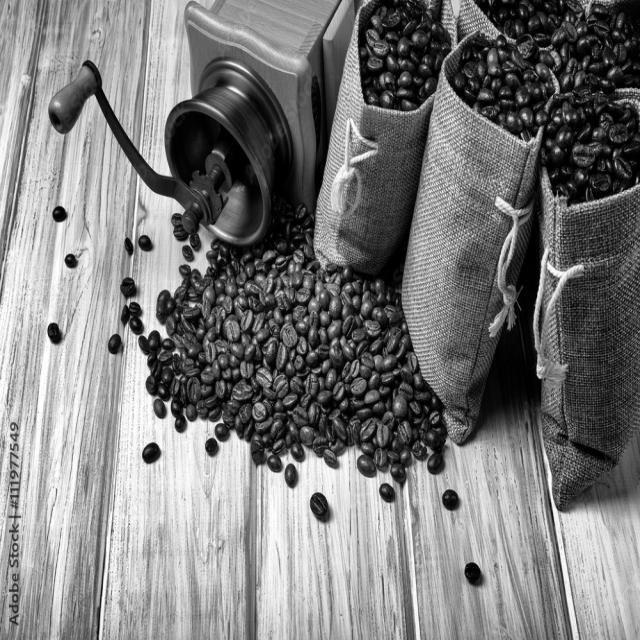sack: (401, 28, 559, 445), (537, 89, 639, 510), (313, 2, 456, 273)
